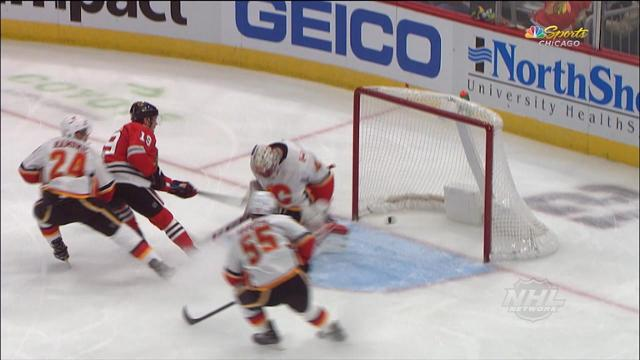geico: (222, 1, 457, 83)
